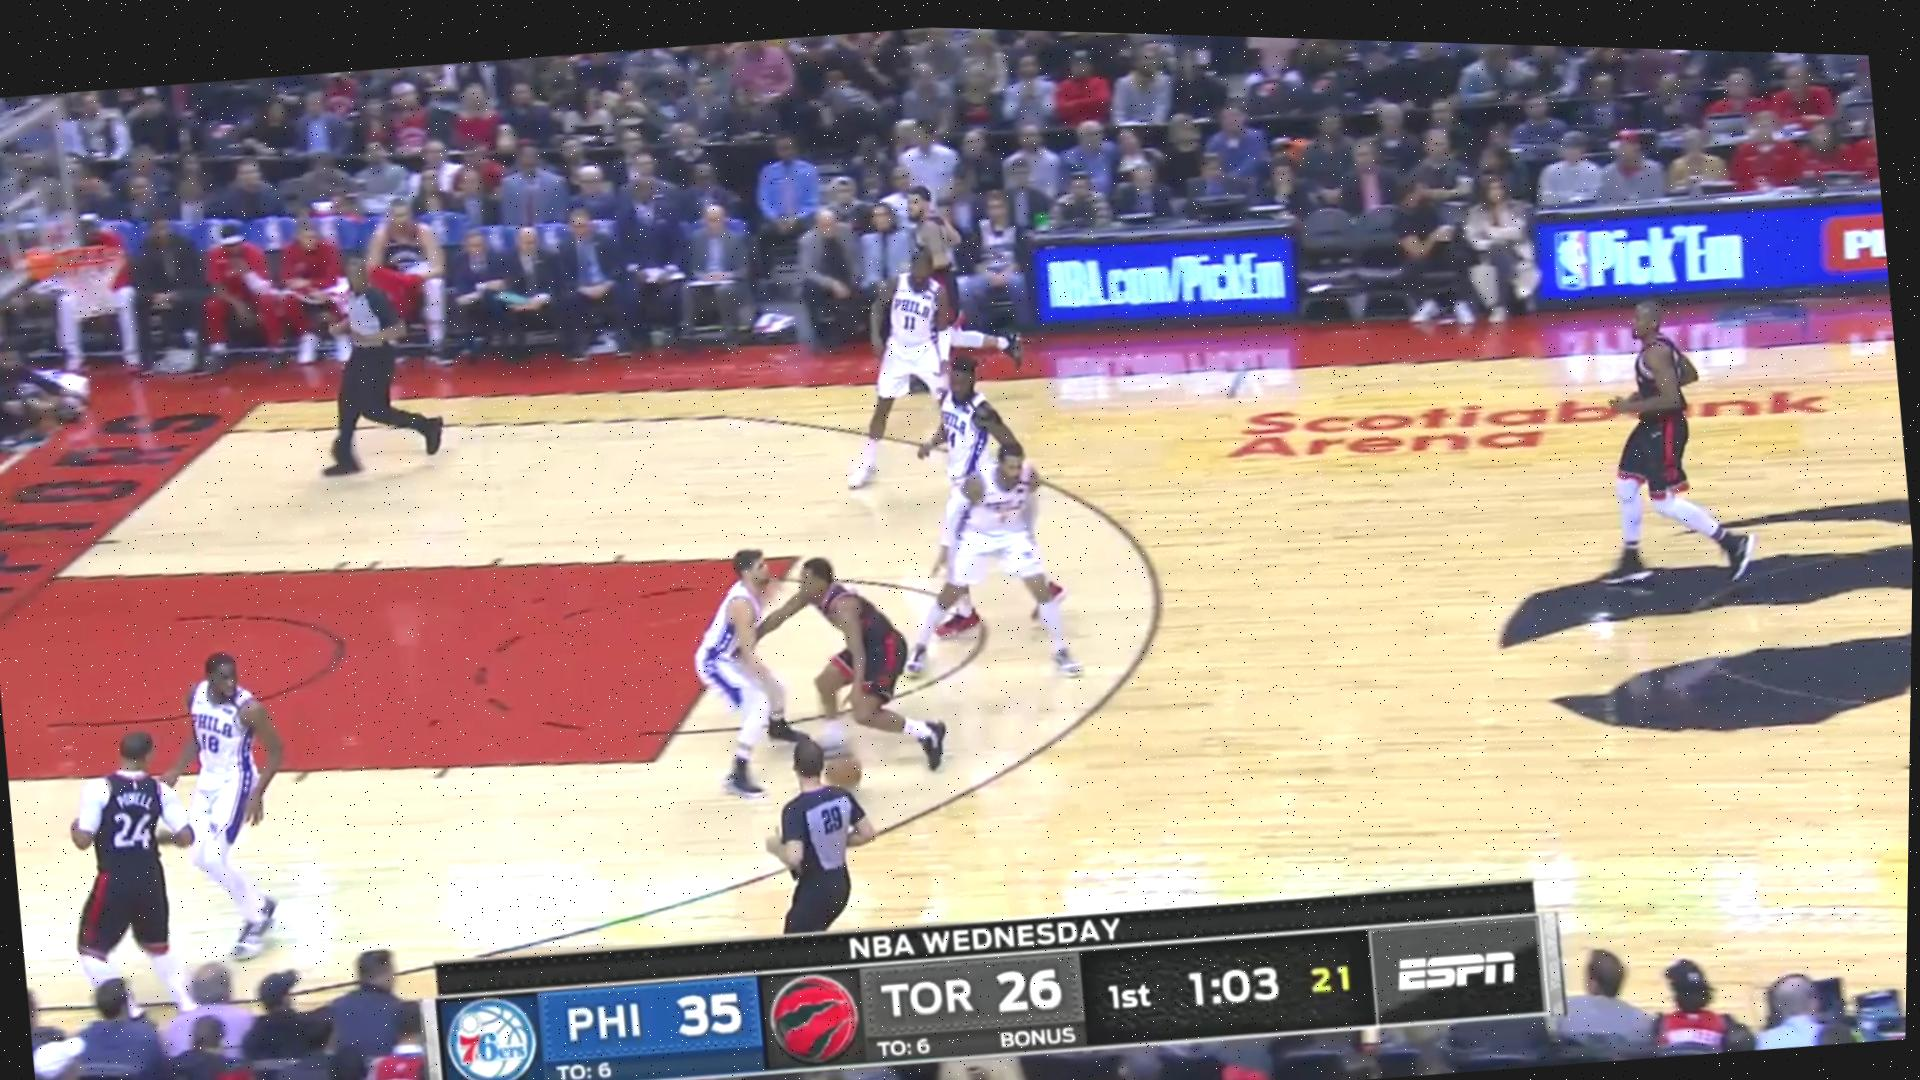no_foul: (675, 512, 924, 775)
